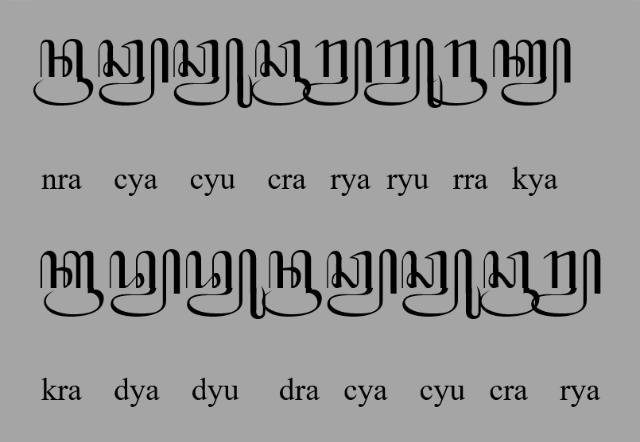cr: (478, 251, 540, 317), (251, 39, 311, 106)
cy: (326, 249, 398, 319), (98, 38, 170, 106)
cyu: (402, 248, 482, 320), (173, 37, 253, 108)
dr: (262, 250, 322, 319)
dy: (109, 248, 181, 317)
dyu: (184, 249, 266, 321)
kr: (39, 251, 105, 318)
ky: (492, 38, 574, 106)
nr: (33, 38, 93, 106)
rr: (428, 39, 488, 106)
ry: (532, 248, 602, 317), (302, 38, 372, 106)
ryu: (363, 38, 442, 108)
